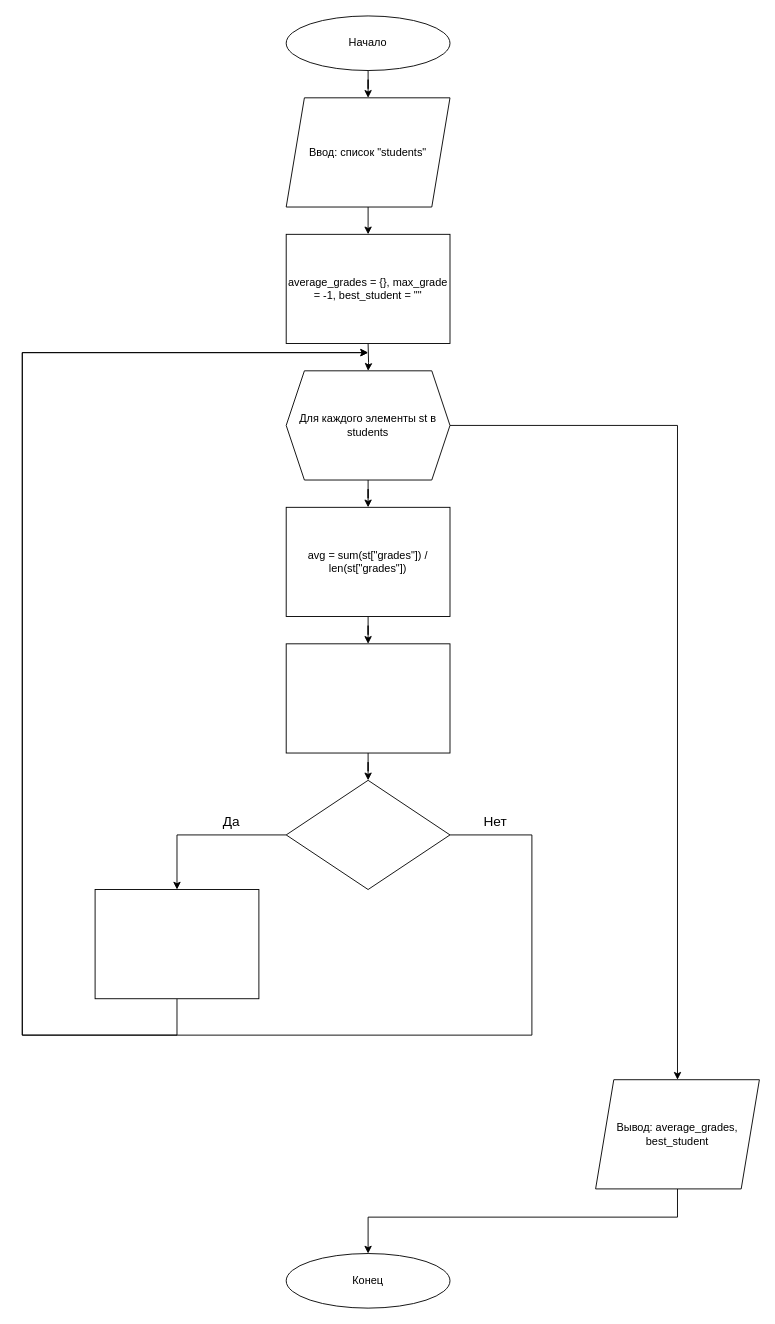
This 775x1324 diagram has some shape labels left out. The centre of each missing label's shape, as x and y in pixels:
average_grades[st["name"]] = avg: the point at 367,698
avg > max_grade?: the point at 367,834
max_grade = avg , best_student = st["name"]: the point at 176,944
